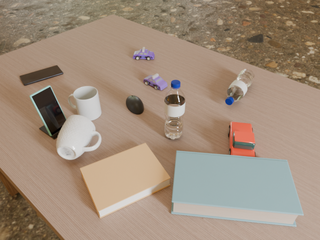book: (171, 151, 303, 227), (80, 143, 170, 218)
bottle: (164, 80, 185, 140), (225, 69, 255, 105)
cup: (56, 115, 101, 160), (68, 86, 101, 120)
mouse: (126, 96, 144, 114)
phone: (30, 86, 66, 136), (20, 65, 63, 85)
toy_car: (228, 122, 255, 157), (143, 74, 167, 90), (133, 47, 154, 60)
